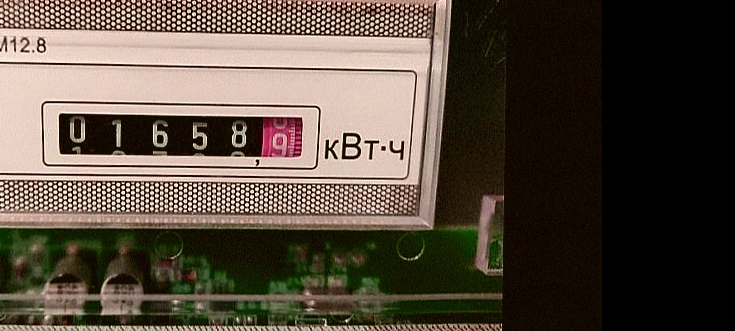0: (66, 112, 88, 144)
1: (110, 117, 124, 148)
5: (190, 119, 210, 151)
6: (150, 117, 171, 149)
8: (229, 118, 249, 150)
9: (269, 130, 288, 156)
screen: (33, 91, 325, 175)
